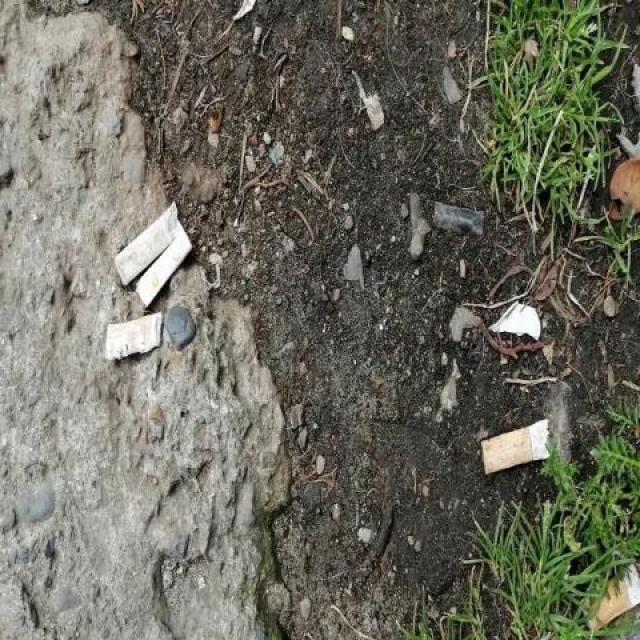non-organic waste: (111, 195, 181, 290), (132, 224, 200, 308), (477, 409, 554, 482), (577, 556, 639, 632), (97, 310, 175, 366)
